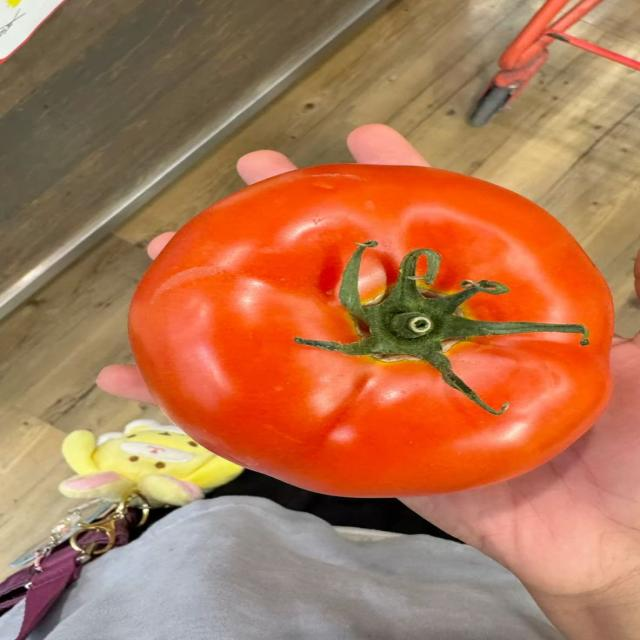tomato: (130, 165, 613, 496)
